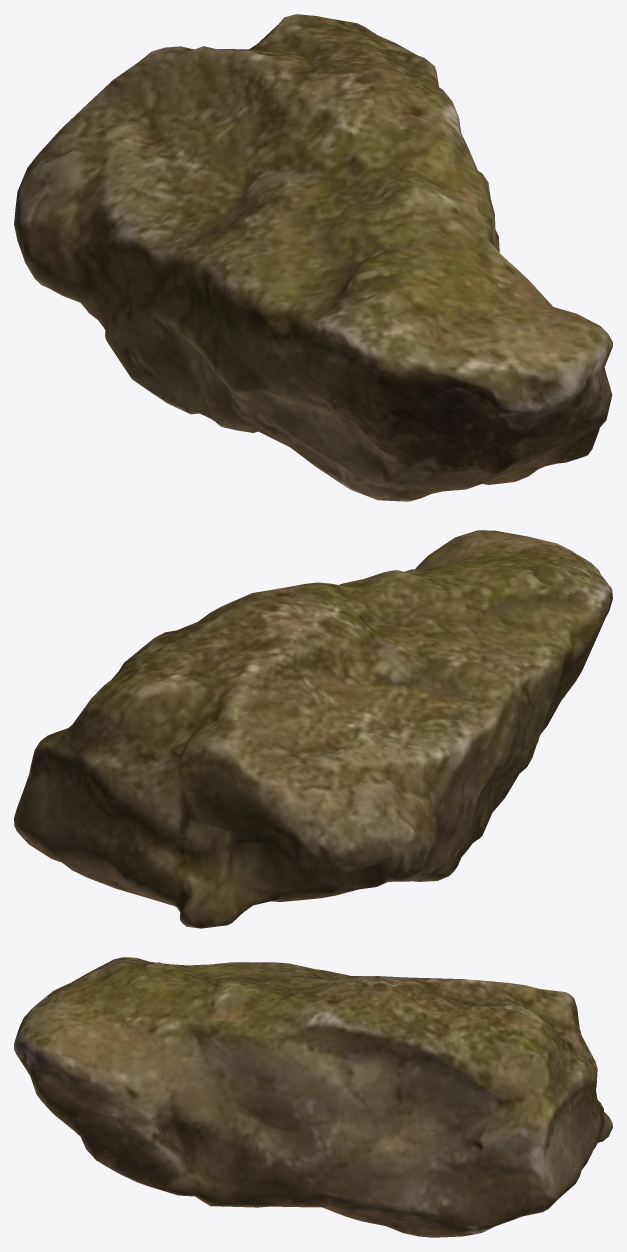
File: rock_moss_set_01-rock05.glb
The picture shows the model from 3 angles, top to bottom: view 1: azimuth 30°, elevation 25°; view 2: azimuth 150°, elevation 25°; view 3: azimuth 270°, elevation 25°; orthographic projection. The views are drawn at different scales.
Parts seen in each view (by area): view 1: rock_moss_set_01_rock05; view 2: rock_moss_set_01_rock05; view 3: rock_moss_set_01_rock05.
Boxes of the visible parts, <box> form: rock_moss_set_01_rock05: <box>14,14,612,501</box>; rock_moss_set_01_rock05: <box>14,530,612,928</box>; rock_moss_set_01_rock05: <box>14,957,612,1237</box>.
Size of the model in its own units: 1.81 by 1.2 by 3.
Materials: 1 (1 with a texture image).
